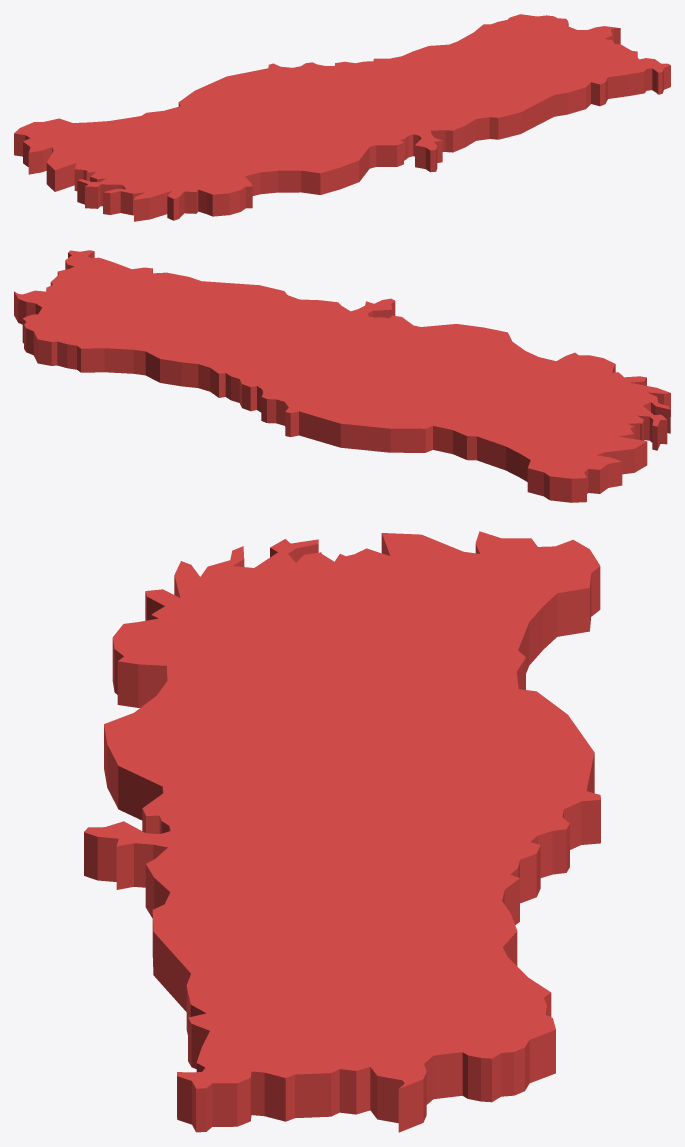
Rendered from Turkiye.fbx.
The picture shows the model from 3 angles, top to bottom: view 1: azimuth 30°, elevation 25°; view 2: azimuth 150°, elevation 25°; view 3: azimuth 270°, elevation 25°; orthographic projection. The views are drawn at different scales.
Parts seen in each view (by area): view 1: Turkiye; view 2: Turkiye; view 3: Turkiye.
Boxes of the visible parts, x1,y1,x2,y2 form: Turkiye: (14, 14, 670, 221); Turkiye: (14, 250, 670, 502); Turkiye: (84, 531, 600, 1132).
Bounding box in the file's own units: 35.92 × 1.31 × 14.08.
